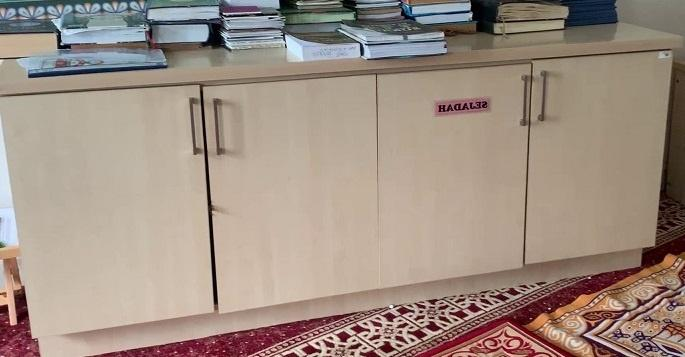cabinet_door: (13, 90, 210, 324), (212, 86, 376, 301), (384, 74, 524, 270), (535, 65, 664, 253)
handle: (184, 96, 206, 156), (533, 69, 557, 124), (211, 96, 231, 155), (516, 72, 534, 126)
